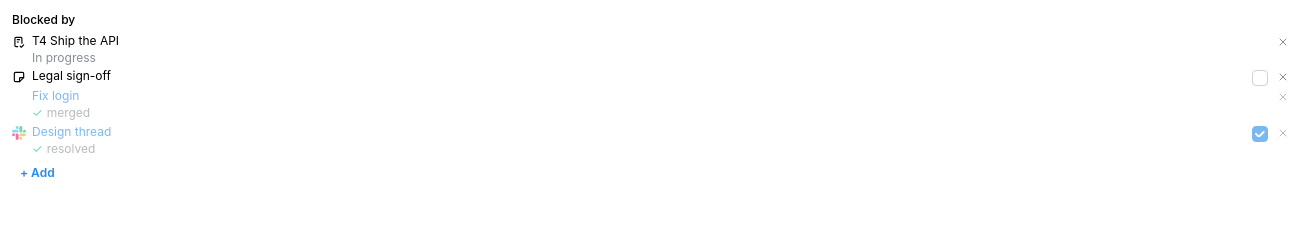
Scenario: BlockersSection › shows a failed remove inline
Click the button named "Remove blocker Legal sign-off" at (1283, 77), box 1274,68 -> 1292,86
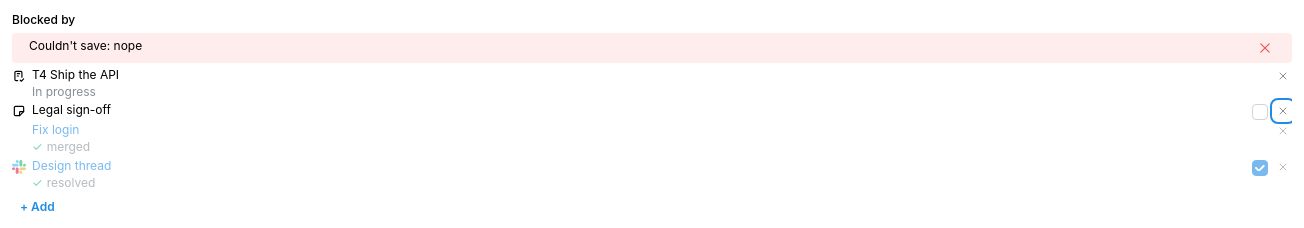
Now the text "Couldn't save: nope" is shown, box 29,38 -> 142,53
